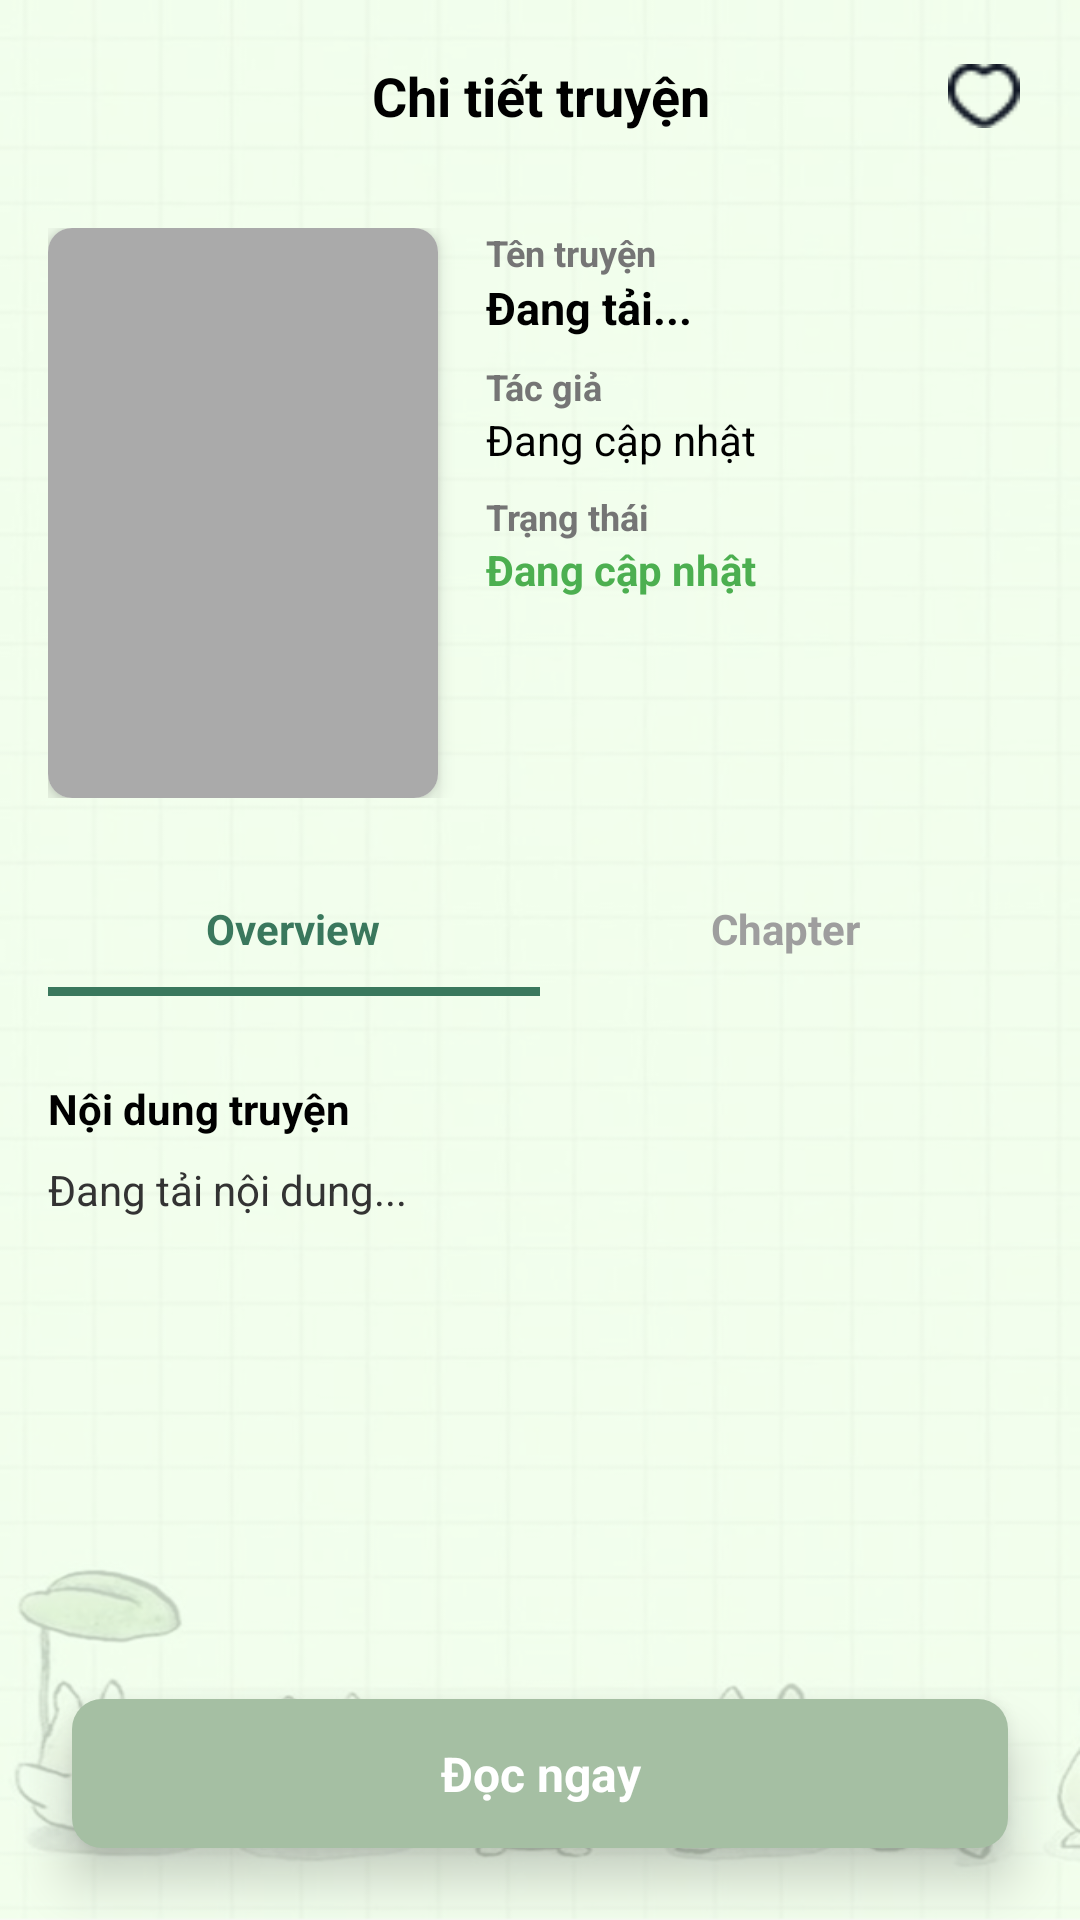

Named icons in this screenshot (1080 x 1920) and their centers, [x,y]:
heart: [984,96]
